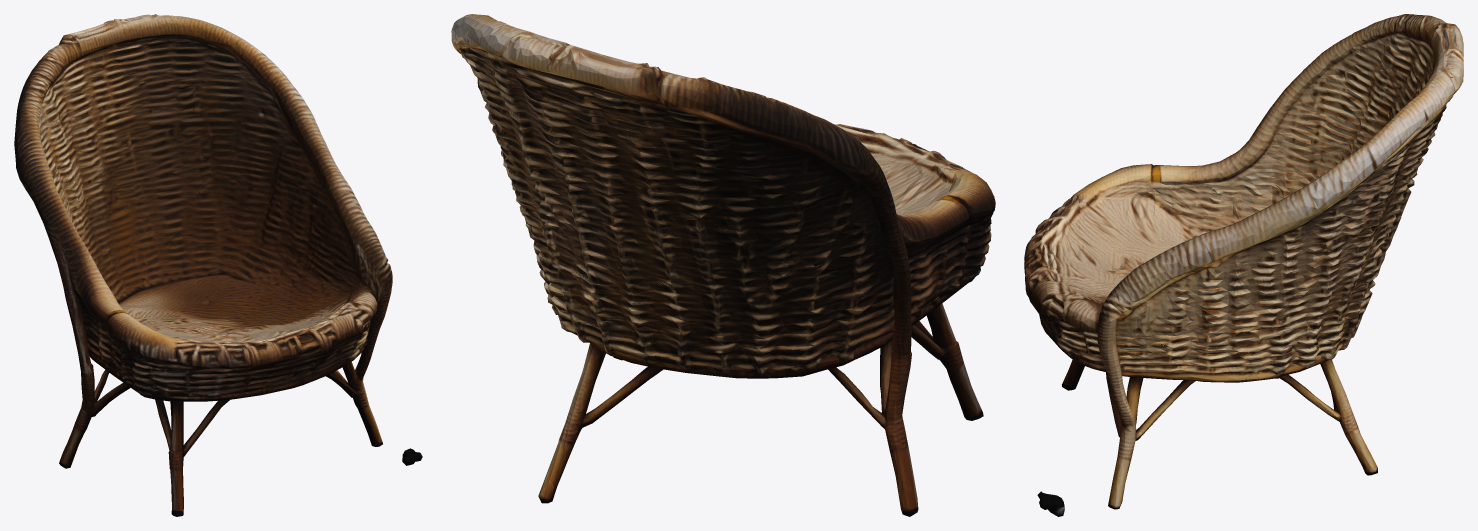
File: handwoven-wicker-chair-aged-hyperrealistic-furniture.jpeg.glb
3 views of the same model, side by side, from view 1: azimuth 30°, elevation 25°; view 2: azimuth 150°, elevation 25°; view 3: azimuth 270°, elevation 25° (orthographic). The views are drawn at different scales.
Parts seen in each view (by area): view 1: world; view 2: world; view 3: world.
Part boxes in pixels (box(x1,y1,x2,y2)): world: box(14, 14, 422, 516); world: box(451, 14, 995, 516); world: box(1024, 14, 1463, 516).
Size of the model in its own units: 0.8354 by 1 by 0.9994.
Materials: 1 (1 with a texture image).
